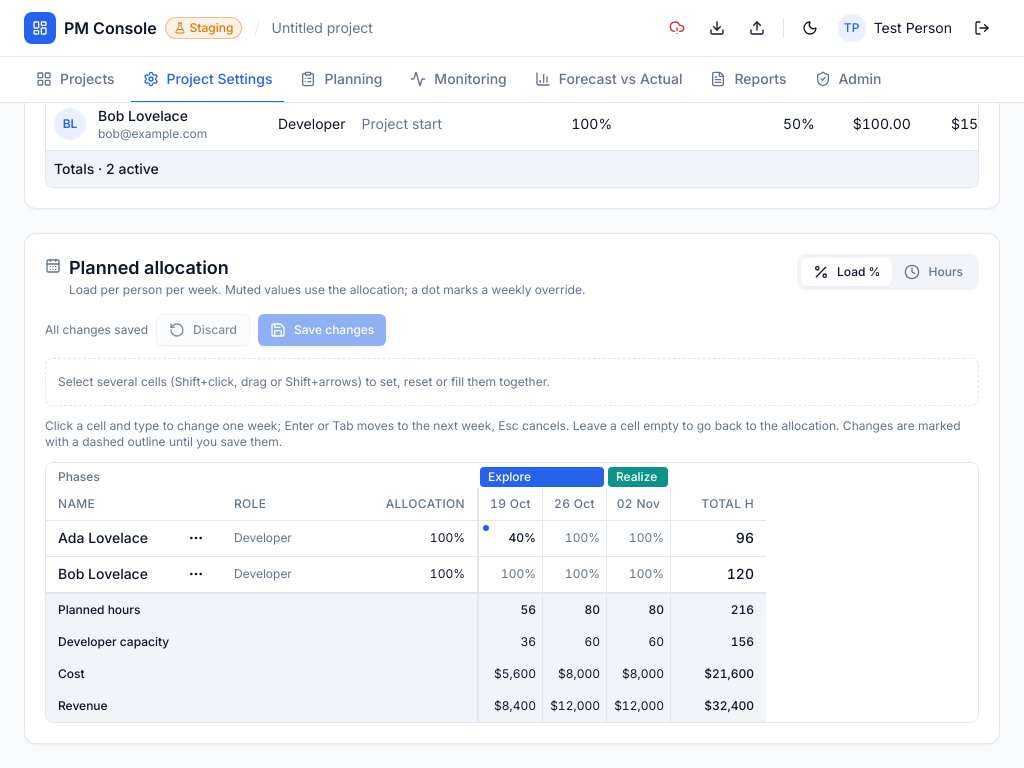
Scenario: Planned allocation grid › editing a cell back to its saved value leaves nothing pending
(page scrolled)
Click the cell "40%" at (510, 538), box x1=478 y1=520 x2=542 y2=556
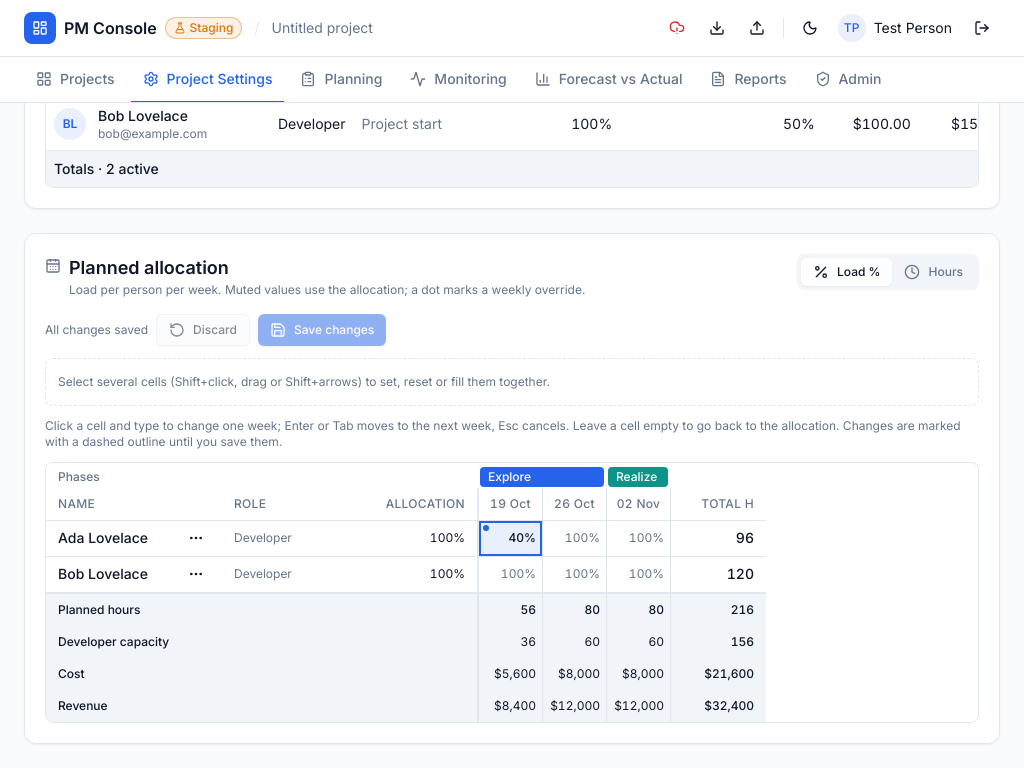
Type keys "90{Enter}"
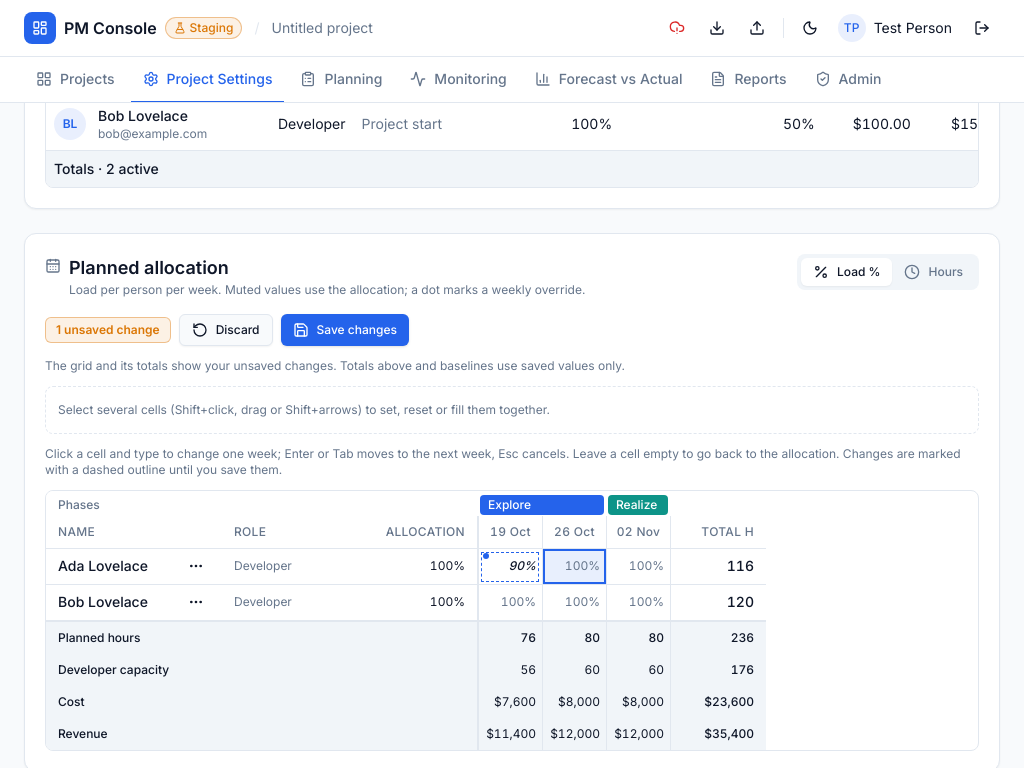
Expected: the text "1 unsaved change" is shown, x1=45 y1=316 x2=171 y2=342
Click the cell "90%" at (510, 566), box x1=478 y1=548 x2=542 y2=584
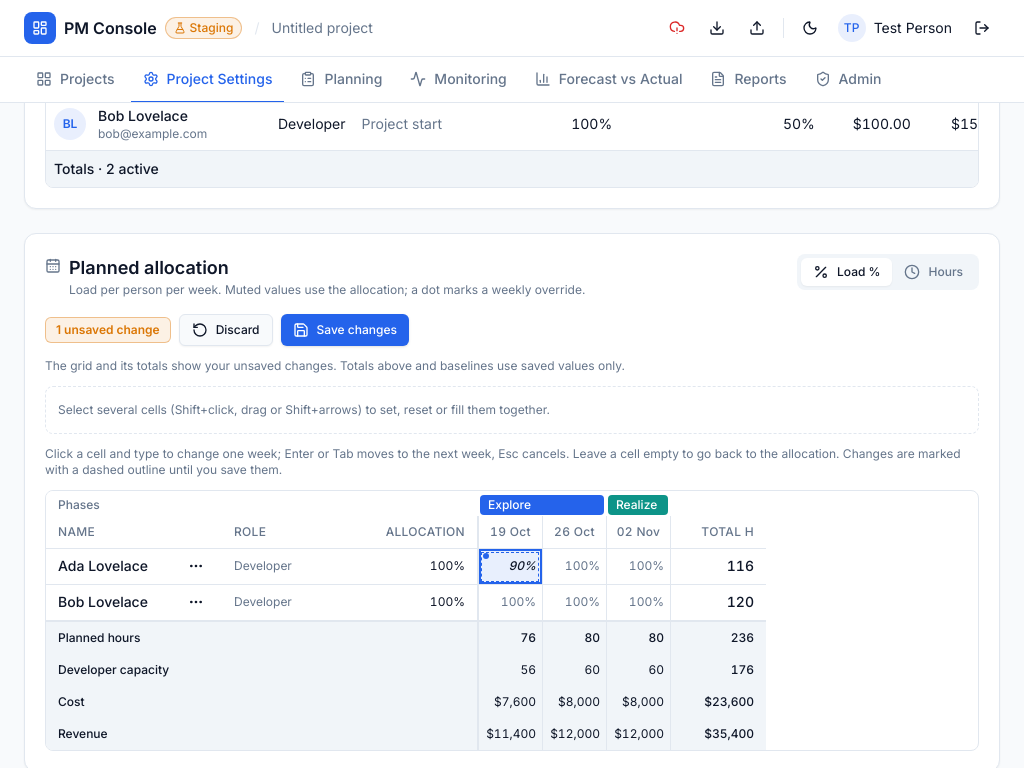
Type keys "40{Enter}"
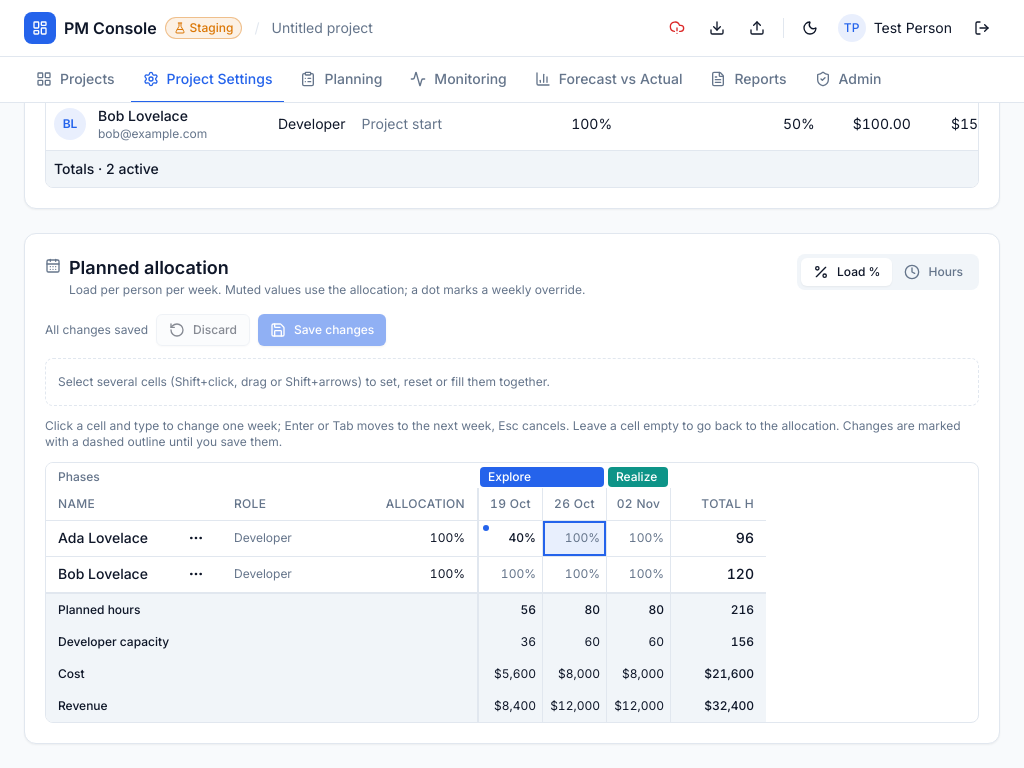
Expected: the text "All changes saved" is shown, x1=45 y1=322 x2=148 y2=338
